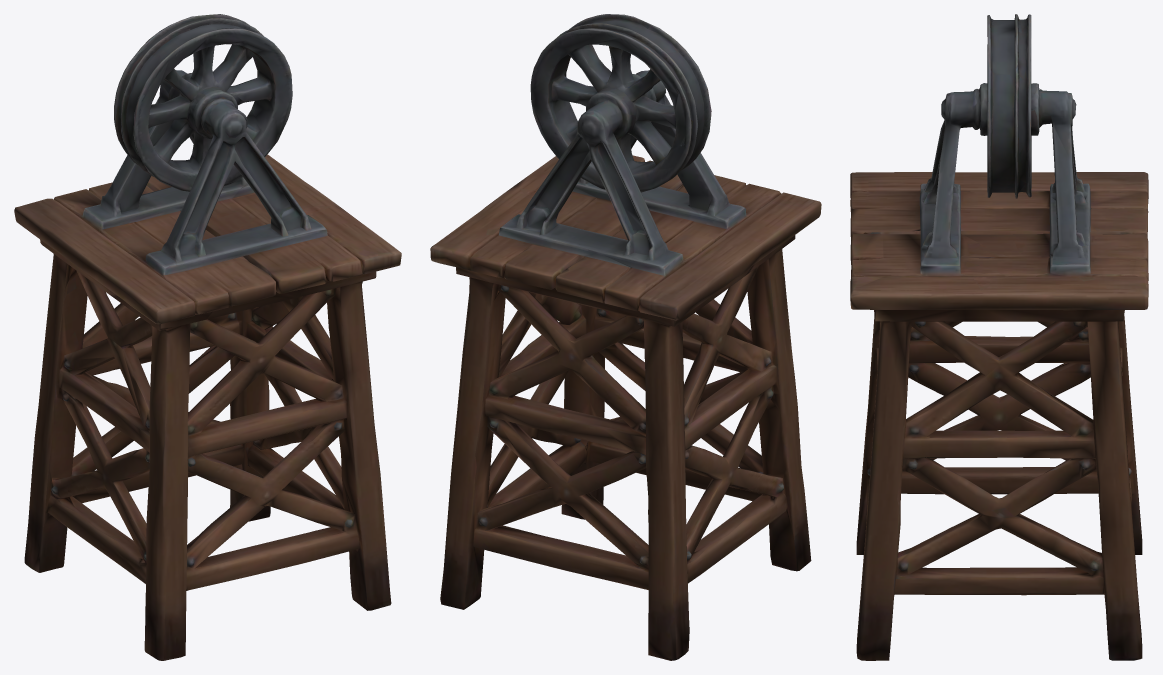
File: torre_andarivel.movil.glb
3 views of the same model, side by side, from view 1: azimuth 30°, elevation 25°; view 2: azimuth 150°, elevation 25°; view 3: azimuth 270°, elevation 25° (orthographic). The views are drawn at different scales.
Parts seen in each view (by area): view 1: geometry_0; view 2: geometry_0; view 3: geometry_0.
Part boxes in pixels (x1=…): geometry_0: x1=14, y1=14, x2=401, y2=660; geometry_0: x1=430, y1=14, x2=821, y2=660; geometry_0: x1=850, y1=14, x2=1148, y2=660.
Size of the model in its own units: 0.4625 by 1 by 0.4691.
1 material, 1 textured.
